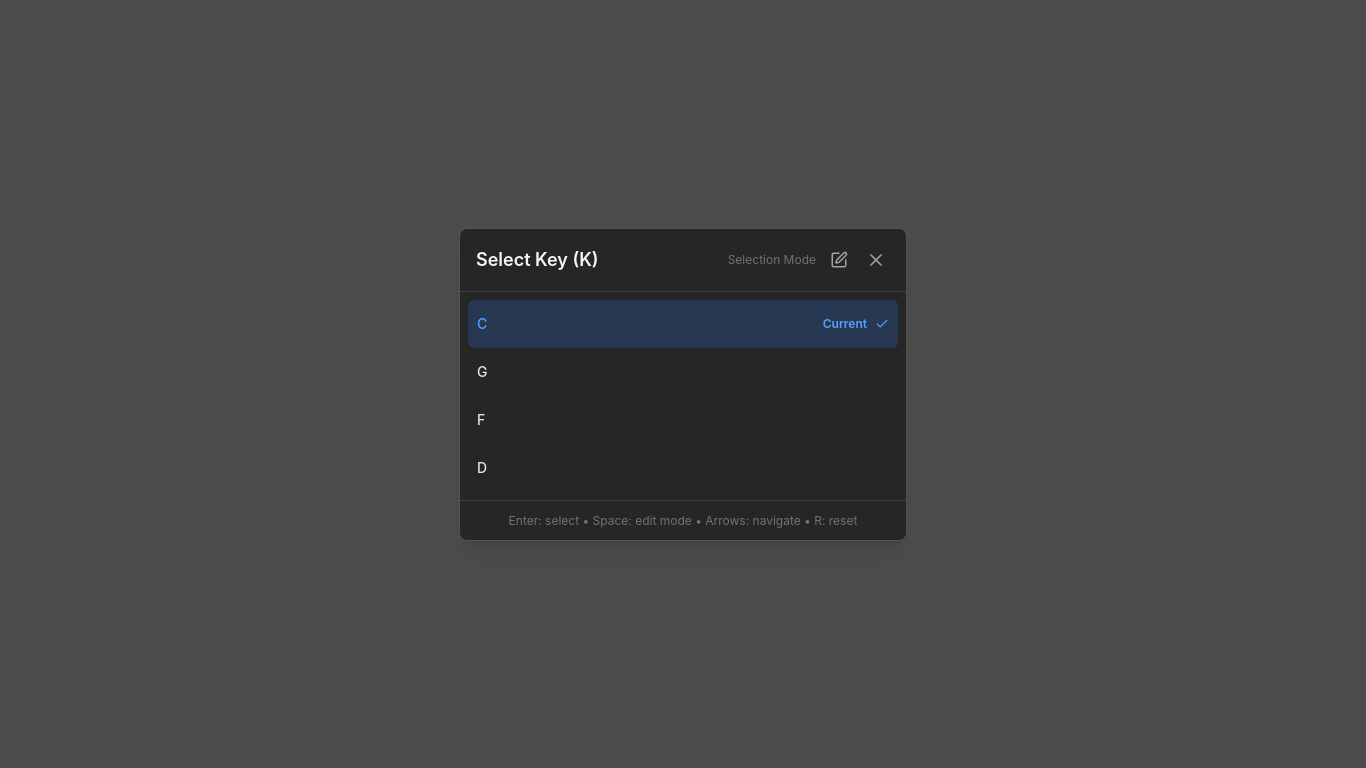
it: DualModeSelector Component › renders EditModeList when in edit mode
Click the button with test id "toggle-mode-button" at (839,260), box [824, 244, 854, 274]
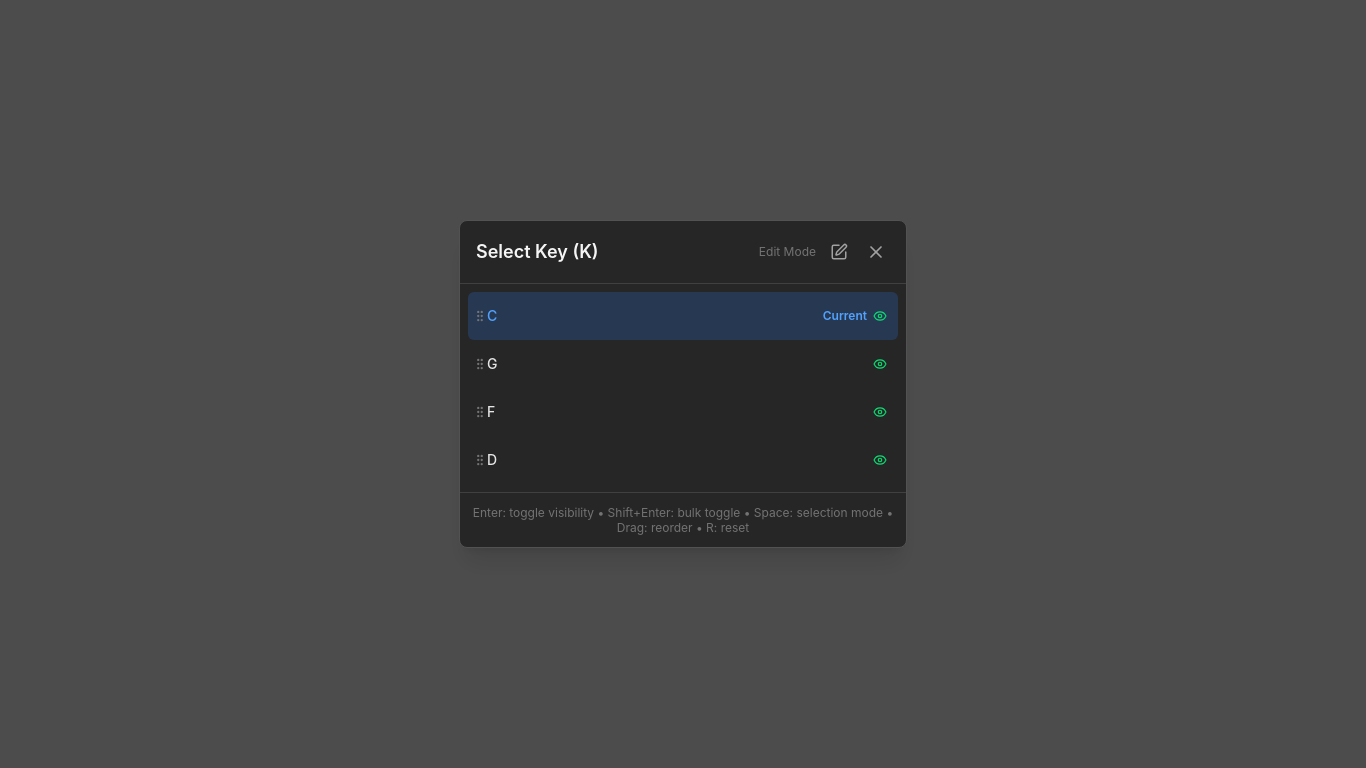
Expected: the text "Edit Mode" is shown, [759, 244, 816, 260]
